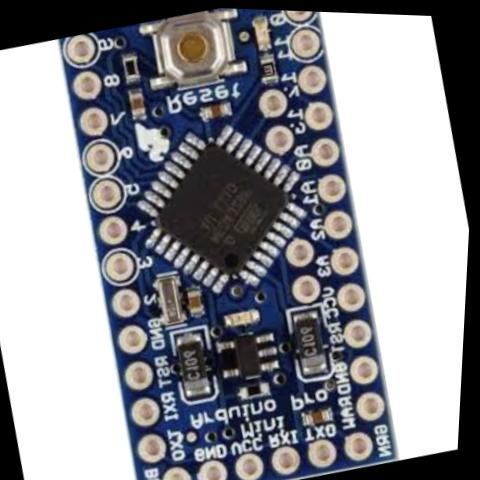Arduino-Pro-Mini: (37, 2, 422, 480)
